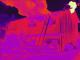Foc: (65, 0, 80, 16)
